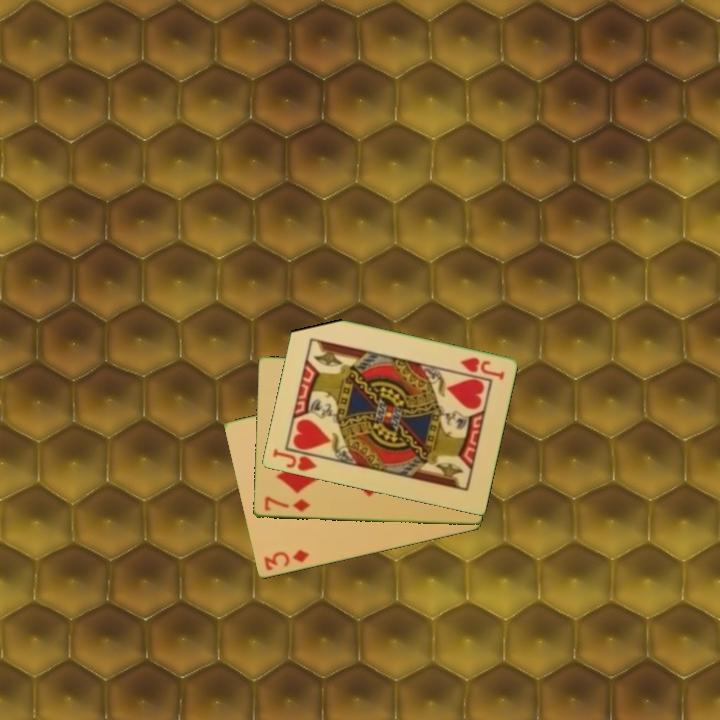3d: (260, 546, 312, 574)
7d: (261, 493, 312, 515)
Jh: (269, 445, 319, 474), (456, 354, 507, 382)
